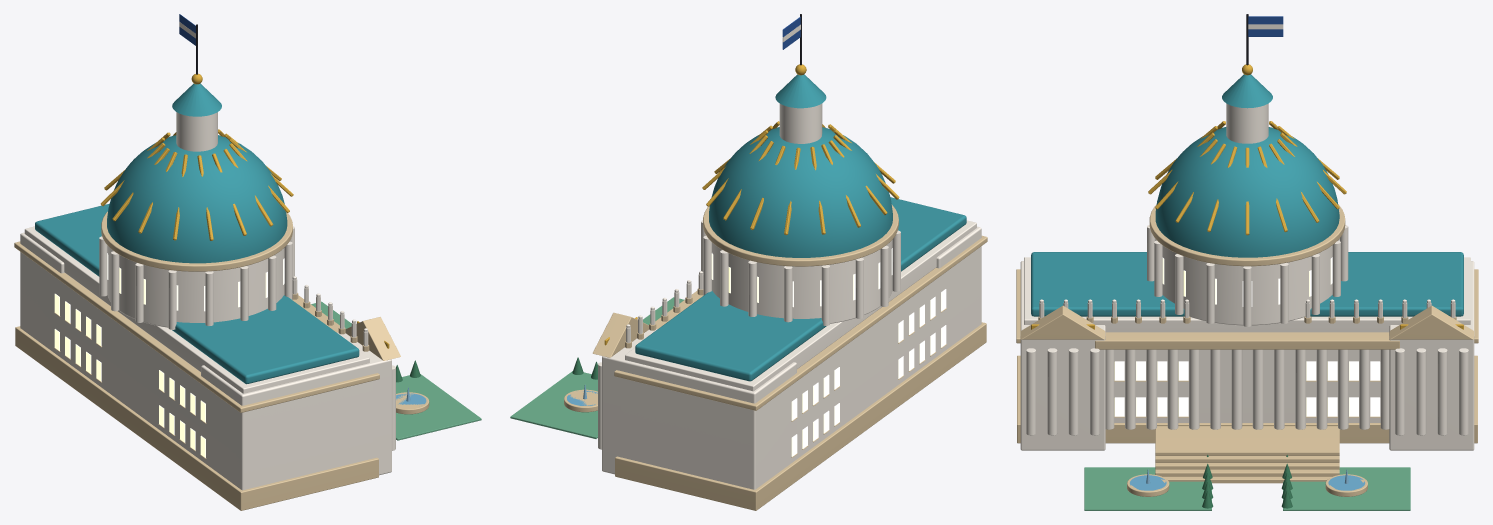
File: parliament.glb
The picture shows the model from 3 angles, left to right: view 1: azimuth 30°, elevation 25°; view 2: azimuth 150°, elevation 25°; view 3: azimuth 270°, elevation 25°; orthographic projection. The views are drawn at different scales.
Visible parts, largest first — view 1: parliament; view 2: parliament; view 3: parliament.
Part boxes in pixels (bbox=[...]): parliament: bbox=[14, 14, 481, 510]; parliament: bbox=[510, 14, 987, 510]; parliament: bbox=[1016, 14, 1478, 510].
Bounding box in the file's own units: 48.2 × 61.4 × 65.2.
1 material, 1 textured.
